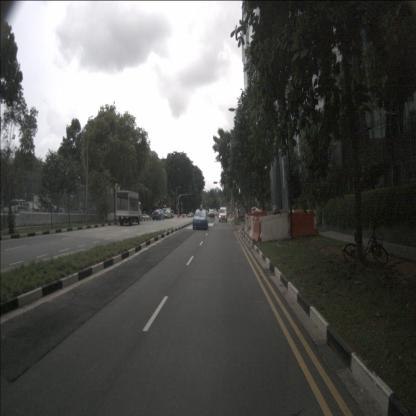barrier: (260, 213, 289, 242), (288, 211, 316, 238), (248, 212, 266, 237), (266, 210, 284, 232), (252, 216, 262, 242), (249, 216, 254, 238), (246, 216, 251, 236), (244, 214, 248, 234), (182, 214, 185, 218), (184, 214, 187, 218), (186, 213, 188, 218)
cone: (234, 212, 237, 219), (217, 210, 219, 218)
